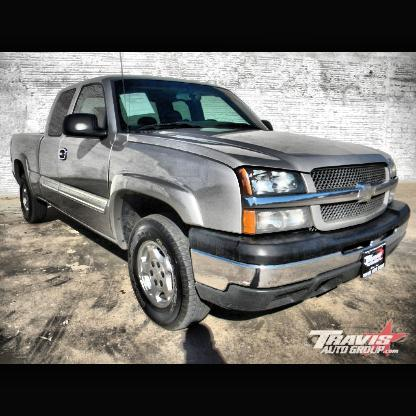Chevrolet Silverado 1500 Classic Extended Cab 2007: (8, 66, 414, 342)
